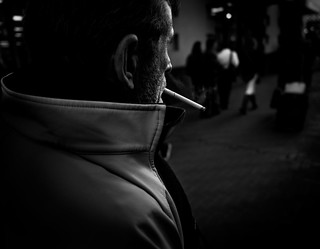cigarette: (162, 86, 208, 115)
